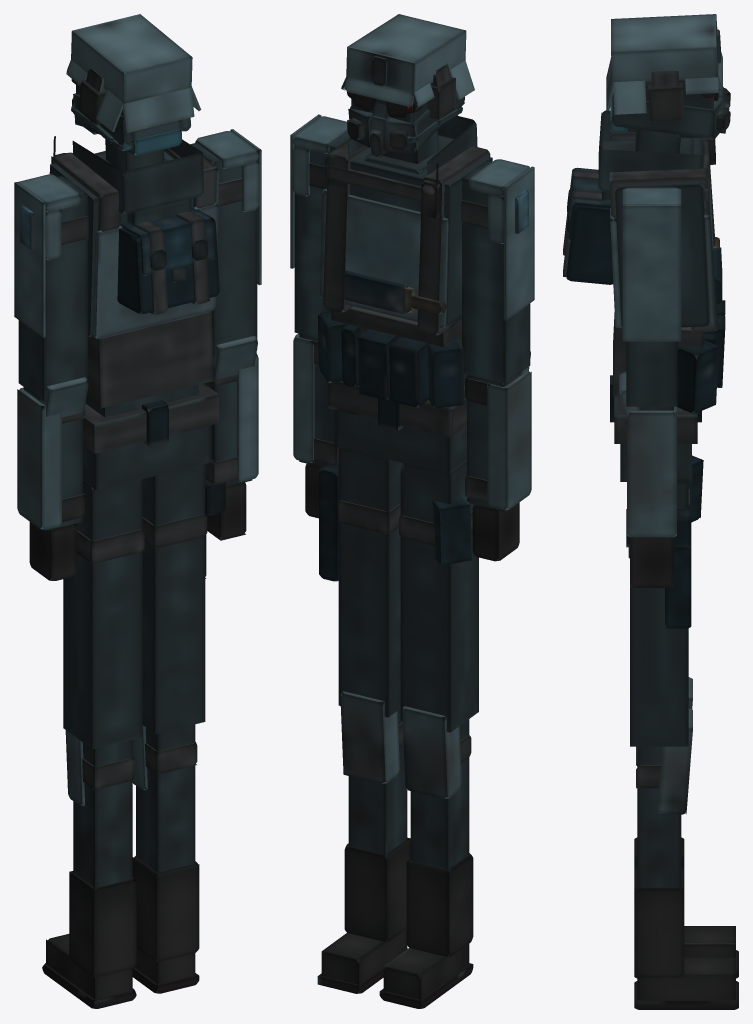
The model's file is soldier.obj.
3 views of the same model, side by side, from view 1: azimuth 30°, elevation 25°; view 2: azimuth 150°, elevation 25°; view 3: azimuth 270°, elevation 25° (orthographic). The views are drawn at different scales.
Visible parts, largest first — view 1: cube; view 2: cube; view 3: cube.
Part boxes in pixels (x1,y1,x2,y2): cube: (14, 14, 261, 1008); cube: (290, 14, 534, 1008); cube: (563, 14, 738, 1009).
Bounding box in the file's own units: 0.4412 × 1.8 × 0.3009.
1 material, 1 textured.
